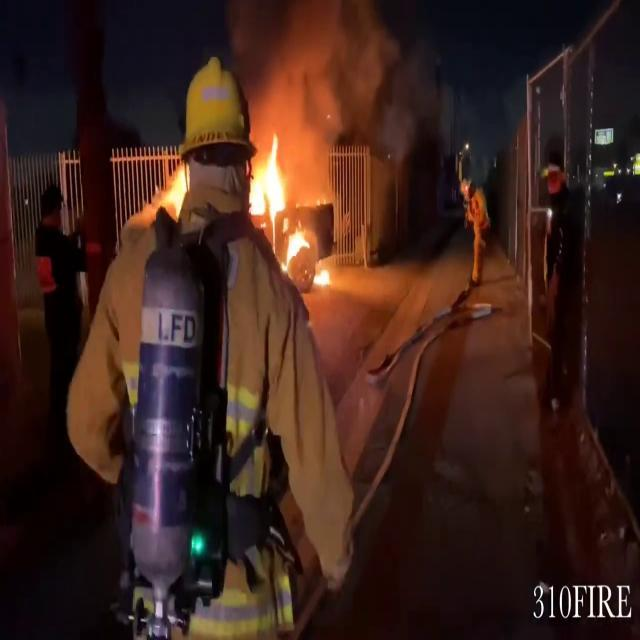Fire: (248, 126, 306, 276)
Smoke: (248, 0, 441, 169)
